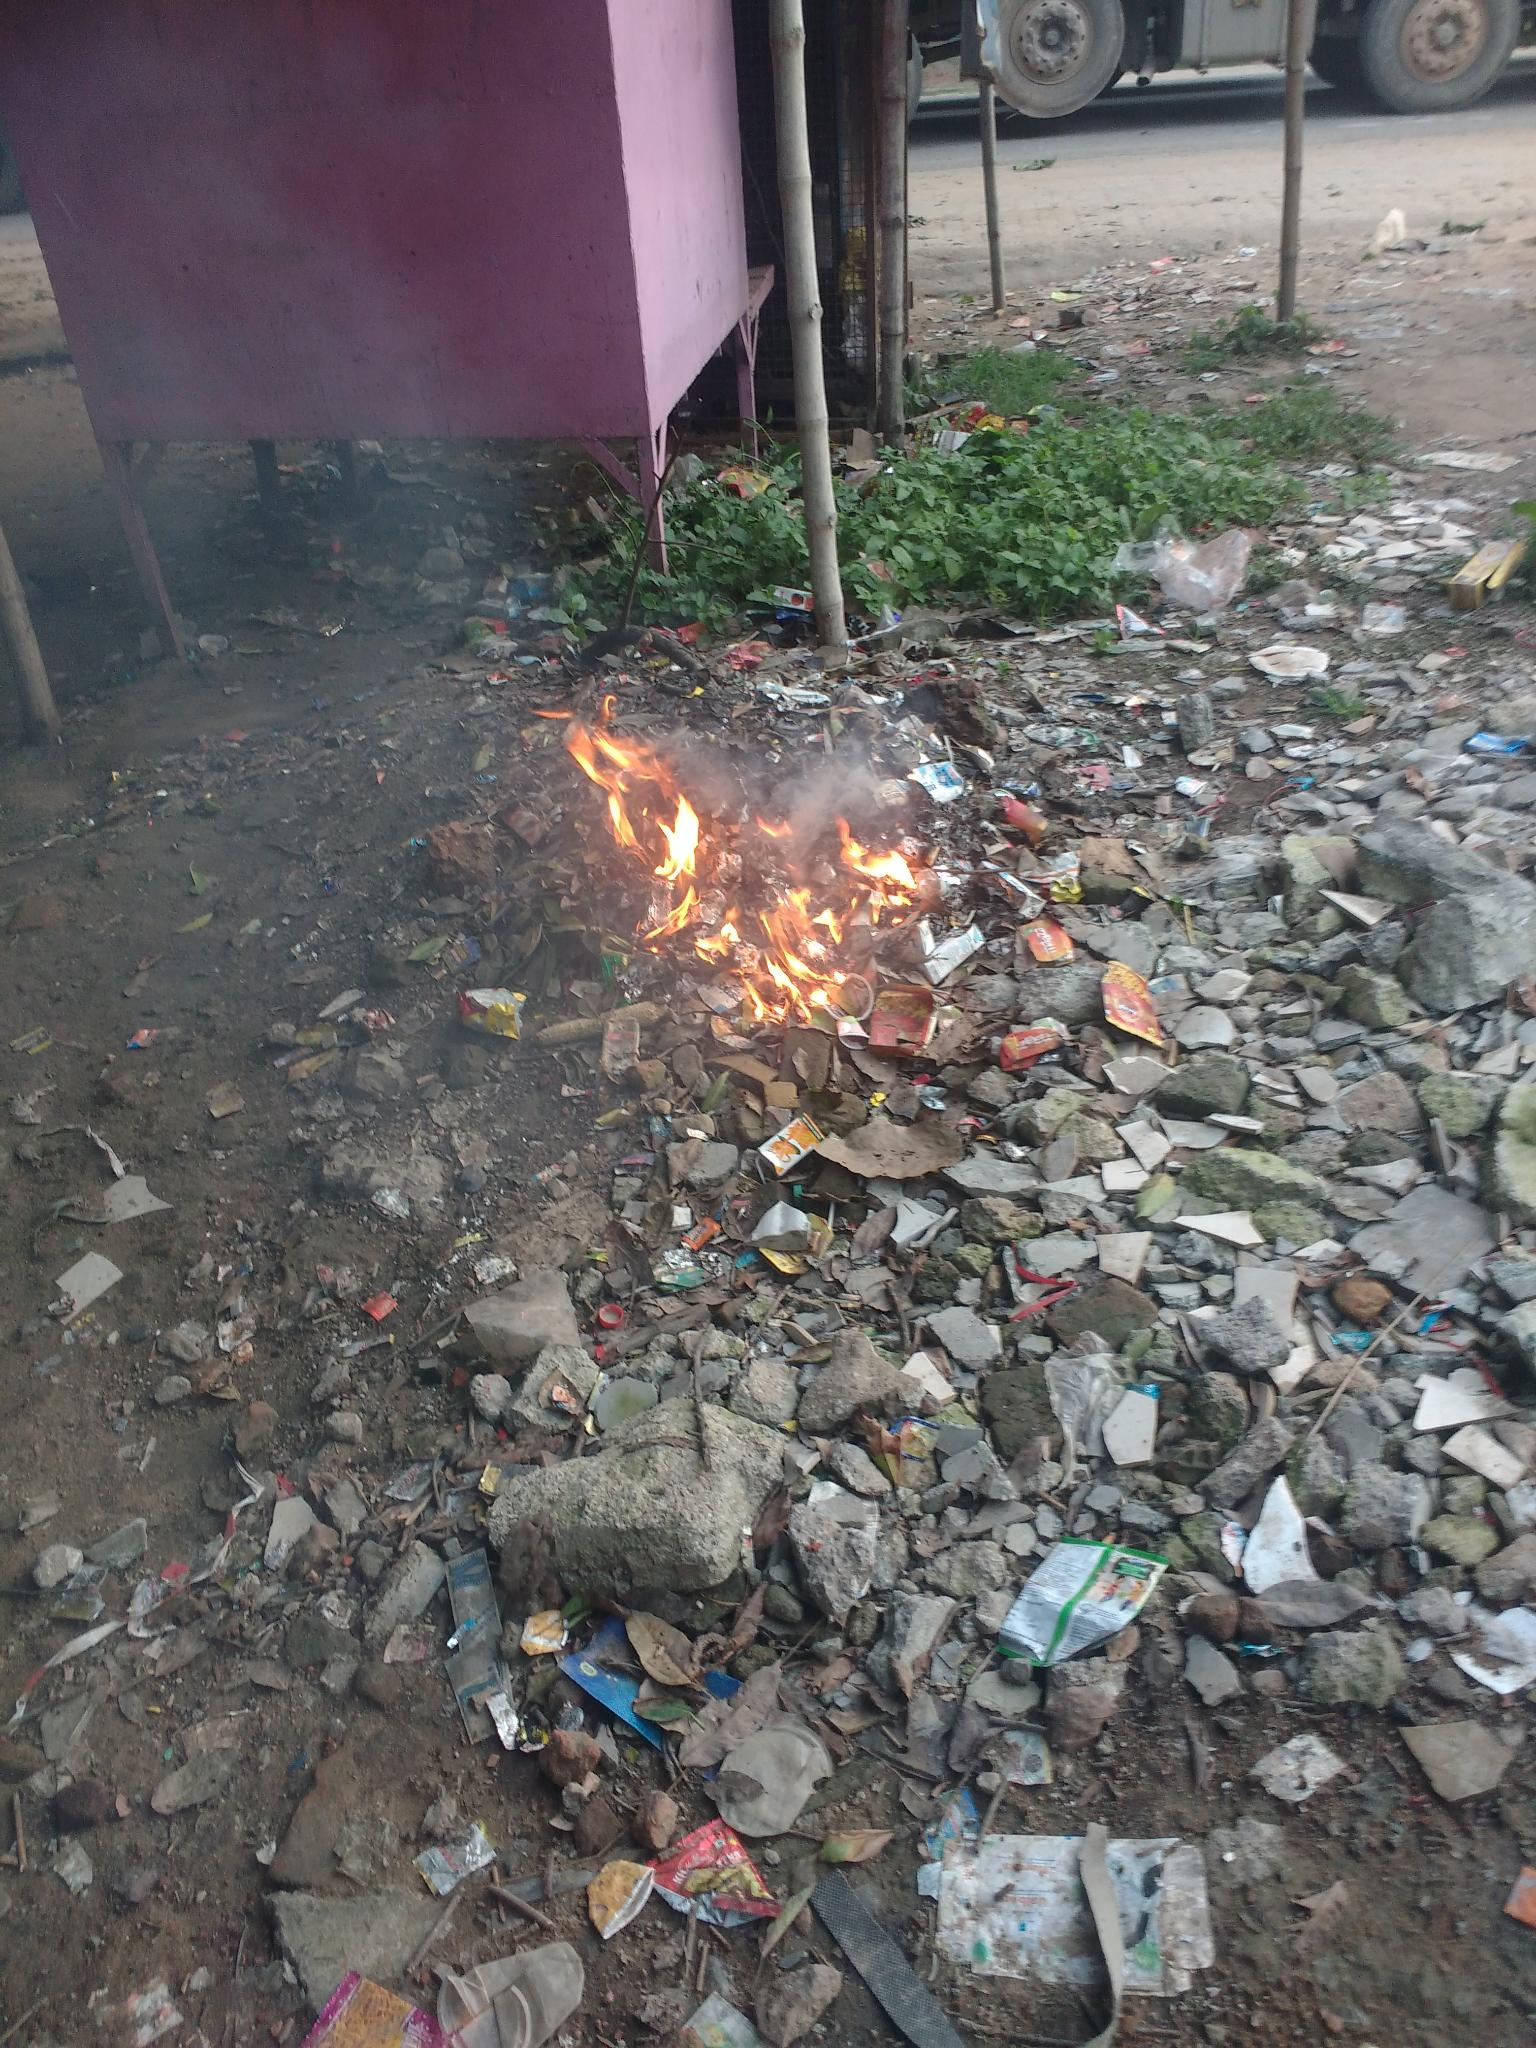Fire: (541, 701, 923, 1028)
